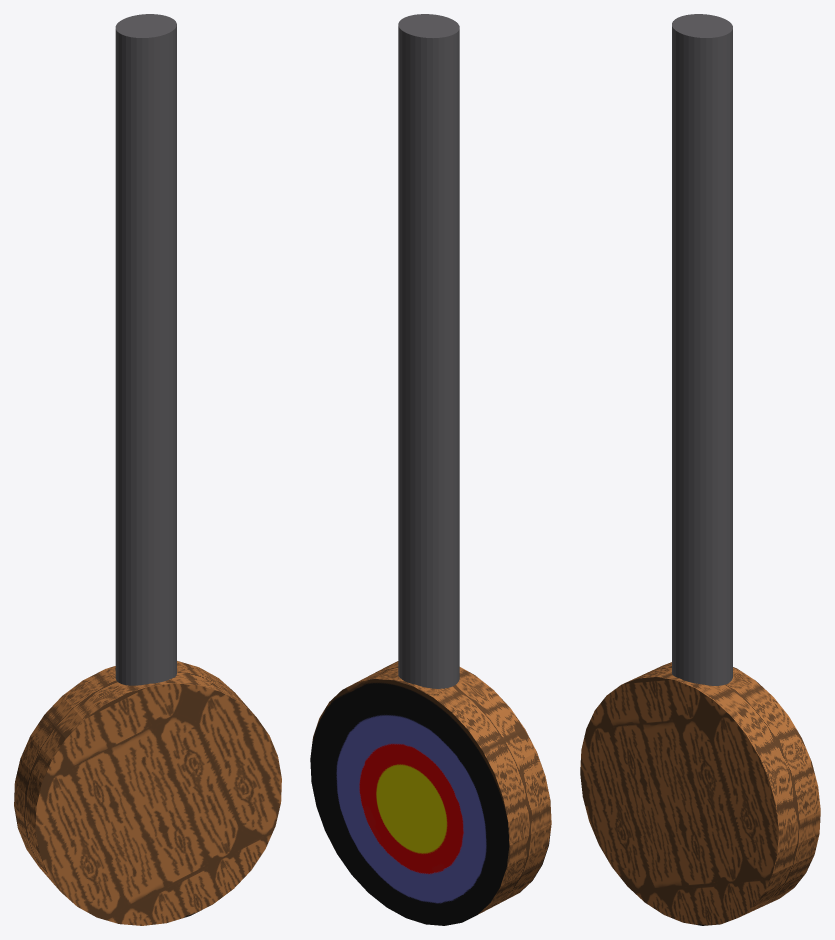
Rendered from target3D.fbx.
3 renders of one model, left to right at view 1: azimuth 30°, elevation 25°; view 2: azimuth 150°, elevation 25°; view 3: azimuth 330°, elevation 25°, orthographic.
Parts seen in each view (by area): view 1: Cylinder.001; view 2: Cylinder.001; view 3: Cylinder.001.
Part boxes in pixels (<box>): Cylinder.001: <box>14,14,281,925</box>; Cylinder.001: <box>310,14,551,925</box>; Cylinder.001: <box>580,14,820,925</box>.
Size of the model in its own units: 204 by 739 by 84.92.
2 materials, 1 textured.
